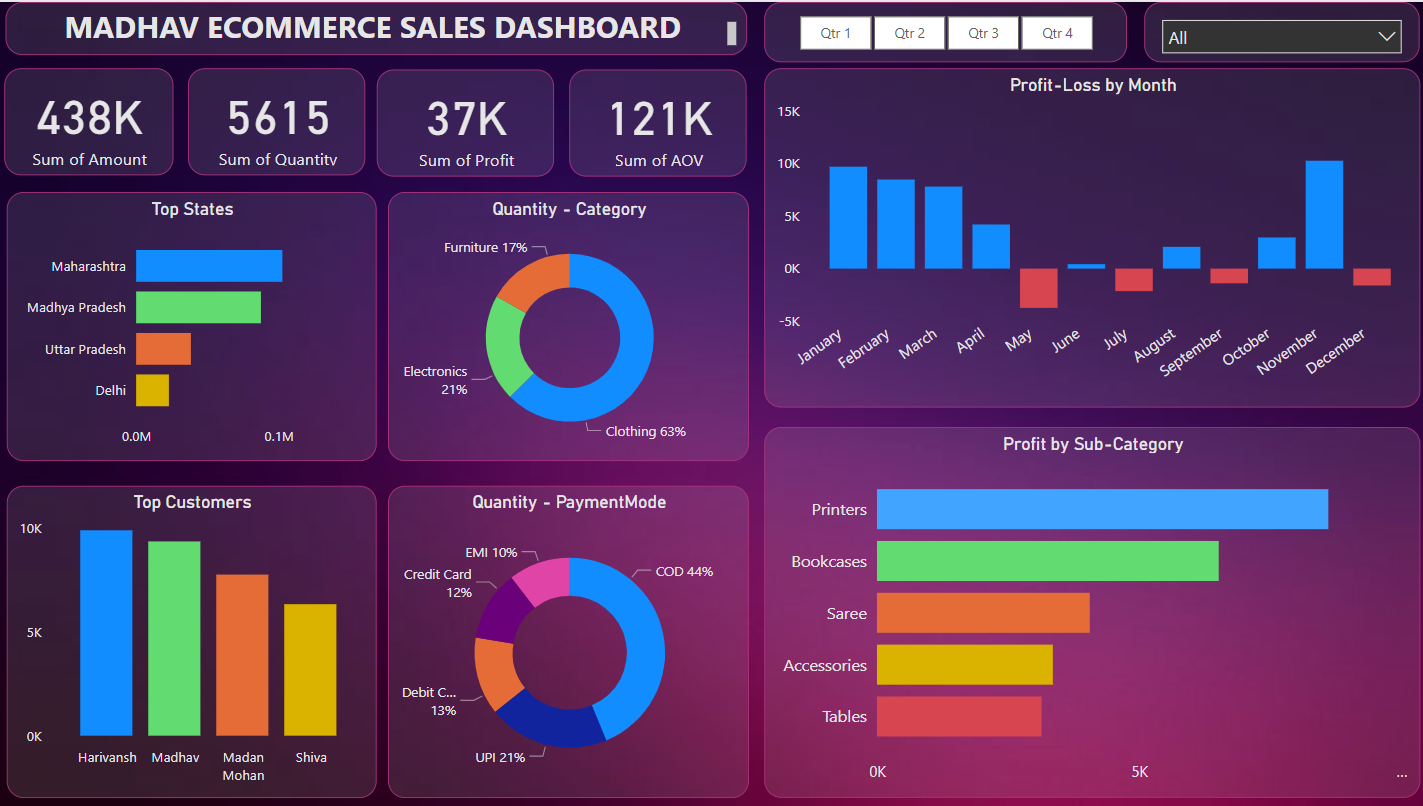

This screenshot's page, from the dashboard's own definition file:
{"tool":"powerbi","page":{"name":"Page 1","canvas":[1280,720],"ordinal":0},"visuals":[{"type":"textbox","box":[10.7,0,659,47.4],"z":0},{"type":"columnChart","title":"Profit-Loss by Month","fields":{"Y":["Details.Profit"],"Category":["Orders.Order Date.Variation.Date Hierarchy.Month"]},"box":[685.1,58.6,583.2,301.8],"z":1000},{"type":"barChart","title":"Profit by Sub-Category","fields":{"Category":["Details.Sub-Category"],"Y":["Details.Profit"]},"box":[685.1,378.2,583.2,329.8],"z":2000},{"type":"donutChart","title":"Quantity - Category","fields":{"Category":["Details.Category"],"Y":["Details.Quantity"]},"box":[351.5,169.4,320.9,239.4],"z":3000},{"type":"donutChart","title":"Quantity - PaymentMode","fields":{"Y":["Details.Quantity"],"Category":["Details.PaymentMode"]},"box":[351.5,430.4,320.9,277.6],"z":4000},{"type":"card","fields":{"Values":["Details.Amount"]},"box":[10.2,58.6,150.3,95.5],"z":5000},{"type":"card","fields":{"Values":["Details.Quantity"]},"box":[173.2,58.6,157.9,95.5],"z":6000},{"type":"card","fields":{"Values":["Details.Profit"]},"box":[341.3,59.8,157.9,95.5],"z":7000},{"type":"card","fields":{"Values":["Details.AOV"]},"box":[511.9,59.8,157.9,95.5],"z":8000},{"type":"barChart","title":"Top States","fields":{"Category":["Orders.State"],"Y":["Details.Amount"]},"box":[12.7,169.4,328.5,239.4],"z":9000},{"type":"columnChart","title":"Top Customers","fields":{"Category":["Orders.CustomerName"],"Y":["Details.Amount"]},"box":[12.7,430.4,328.5,277.6],"z":10000},{"type":"slicer","fields":{"Values":["Orders.Order Date.Variation.Date Hierarchy.Quarter"]},"box":[685.1,0,322.2,53.5],"z":11000},{"type":"slicer","fields":{"Values":["Orders.State"]},"box":[1023.8,0,244.5,53.5],"z":12000}]}

Visuals, with their boxes in screenshot pixels (x1, y1, x2, y2), scaled from the page's 1280x720 canvas onto the 1423x806 screenshot:
textbox: {"left": 12, "top": 0, "right": 745, "bottom": 53}
"Profit-Loss by Month" columnChart: {"left": 762, "top": 66, "right": 1410, "bottom": 403}
"Profit by Sub-Category" barChart: {"left": 762, "top": 423, "right": 1410, "bottom": 793}
"Quantity - Category" donutChart: {"left": 391, "top": 190, "right": 748, "bottom": 458}
"Quantity - PaymentMode" donutChart: {"left": 391, "top": 482, "right": 748, "bottom": 793}
card - Details.Amount: {"left": 11, "top": 66, "right": 178, "bottom": 173}
card - Details.Quantity: {"left": 193, "top": 66, "right": 368, "bottom": 173}
card - Details.Profit: {"left": 379, "top": 67, "right": 555, "bottom": 174}
card - Details.AOV: {"left": 569, "top": 67, "right": 745, "bottom": 174}
"Top States" barChart: {"left": 14, "top": 190, "right": 379, "bottom": 458}
"Top Customers" columnChart: {"left": 14, "top": 482, "right": 379, "bottom": 793}
slicer - Orders.Order Date.Variation.Date Hierarchy.Quarter: {"left": 762, "top": 0, "right": 1120, "bottom": 60}
slicer - Orders.State: {"left": 1138, "top": 0, "right": 1410, "bottom": 60}
